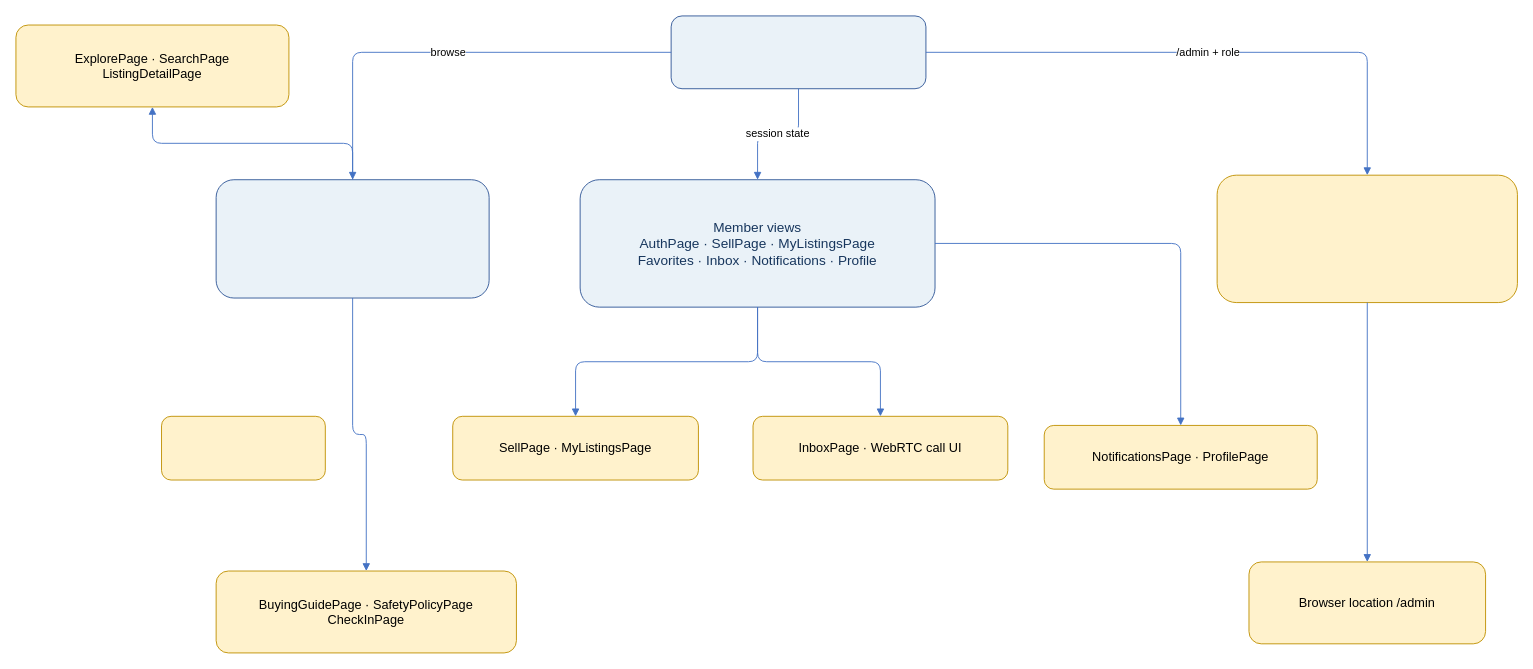
The diagram is 1533 pixels wide and 669 high, and some of its shapes have lost their labels. The box of each missing label's shape, as (x1, y1, x2, y2) in pixels:
AdminPage Moderation · Users · Reports Stats · Categories: (1216, 174, 1517, 303)
AuthPage: (161, 415, 325, 480)
Chợ Hời SPA App.tsx · MarketplaceLayout: (670, 15, 926, 89)
Guest views ExplorePage · SearchPage ListingDetailPage · Guides: (215, 179, 489, 298)
